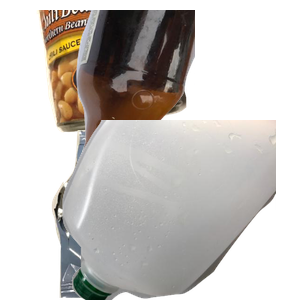glass: (60, 10, 300, 190)
metal: (34, 10, 213, 135)
plastic: (60, 120, 300, 300)
trash: (49, 130, 235, 300)
